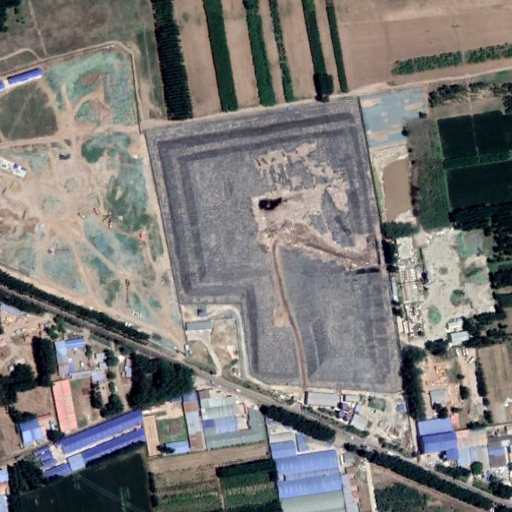lf: (142, 100, 400, 394)
